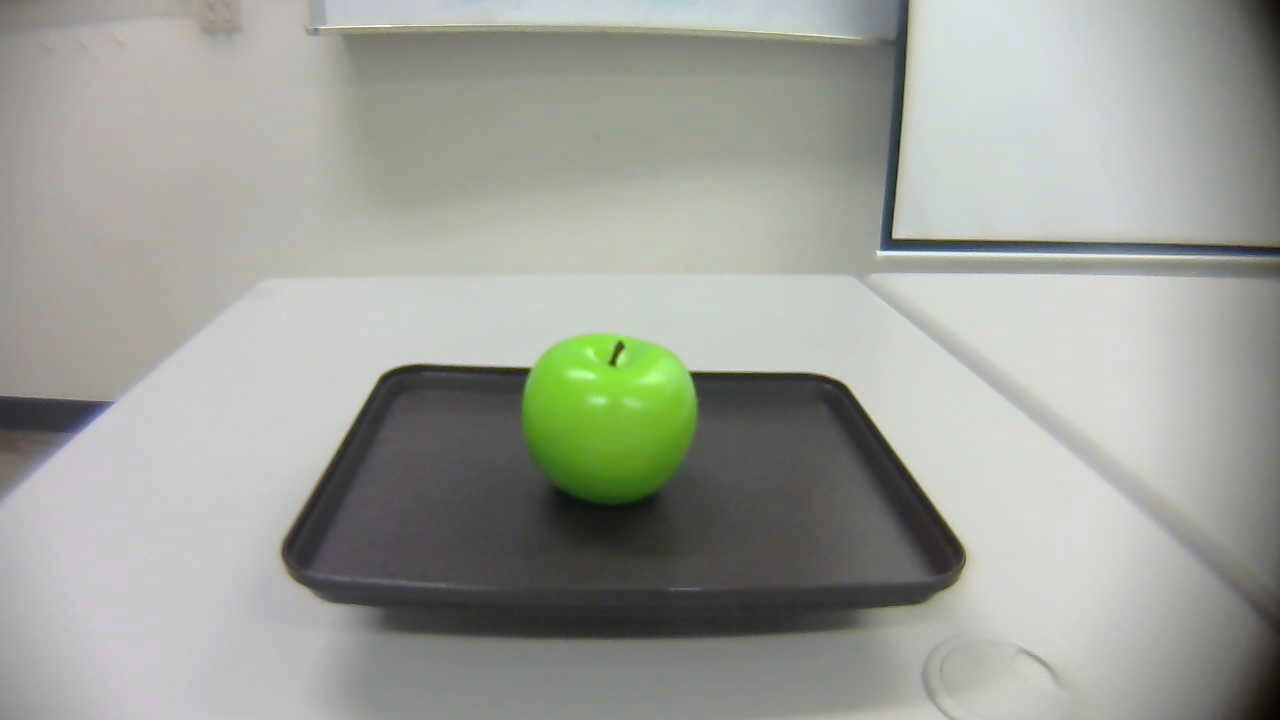green apple: (523, 335, 697, 503)
